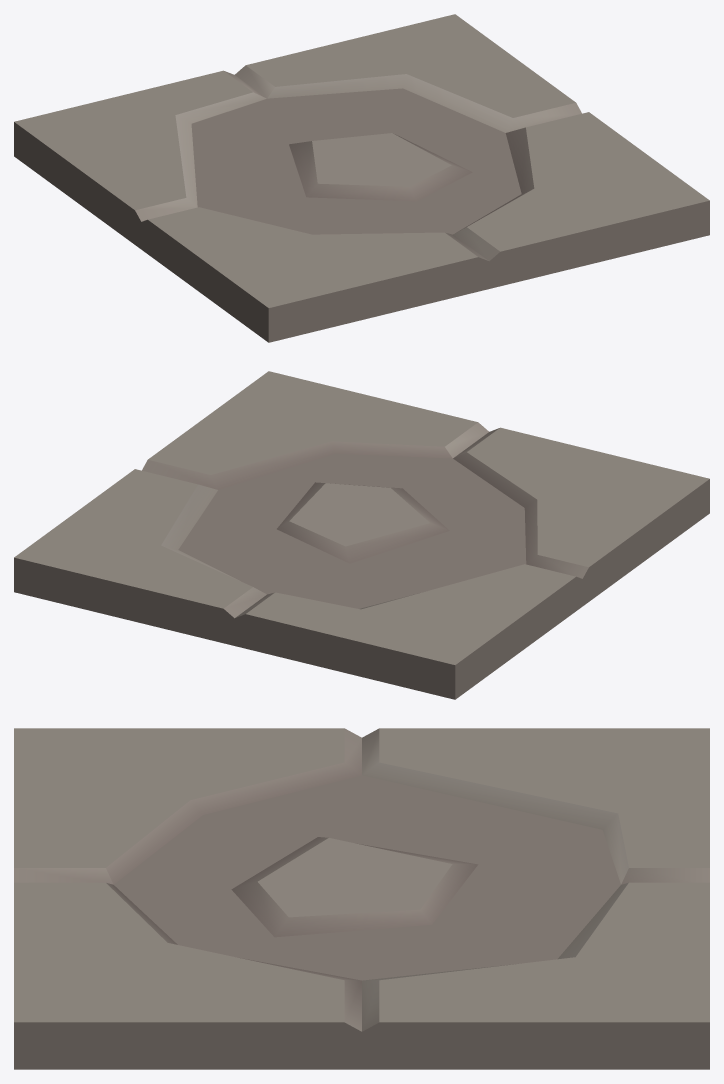
File: floor_b.fbx
The picture shows the model from 3 angles, top to bottom: view 1: azimuth 30°, elevation 25°; view 2: azimuth 150°, elevation 25°; view 3: azimuth 270°, elevation 25°; orthographic projection. The views are drawn at different scales.
Visible parts, largest first — view 1: floor_tile_small_broken_A; view 2: floor_tile_small_broken_A; view 3: floor_tile_small_broken_A.
Boxes of the visible parts, x1=… form: floor_tile_small_broken_A: x1=14, y1=14, x2=709, y2=342; floor_tile_small_broken_A: x1=14, y1=371, x2=709, y2=699; floor_tile_small_broken_A: x1=14, y1=728, x2=709, y2=1069.
Bounding box in the file's own units: 200 × 15 × 200.
1 material, 1 textured.
